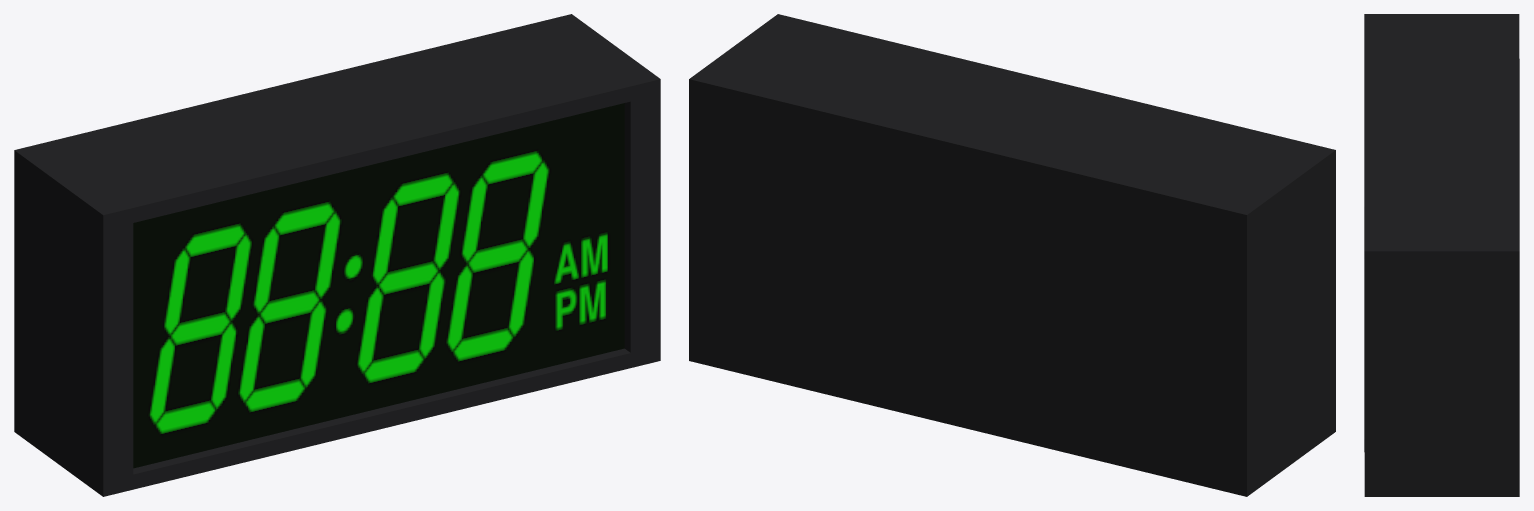
File: Saat.fbx
3 views of the same model, side by side, from view 1: azimuth 30°, elevation 25°; view 2: azimuth 150°, elevation 25°; view 3: azimuth 270°, elevation 25° (orthographic). The views are drawn at different scales.
Visible parts, largest first — view 1: Saat; view 2: Saat; view 3: Saat.
Boxes of the visible parts, x1,y1,x2,y2 form: Saat: [14, 14, 660, 496]; Saat: [689, 14, 1335, 496]; Saat: [1364, 14, 1519, 496].
Size of the model in its own units: 48.04 by 23.19 by 13.29.
